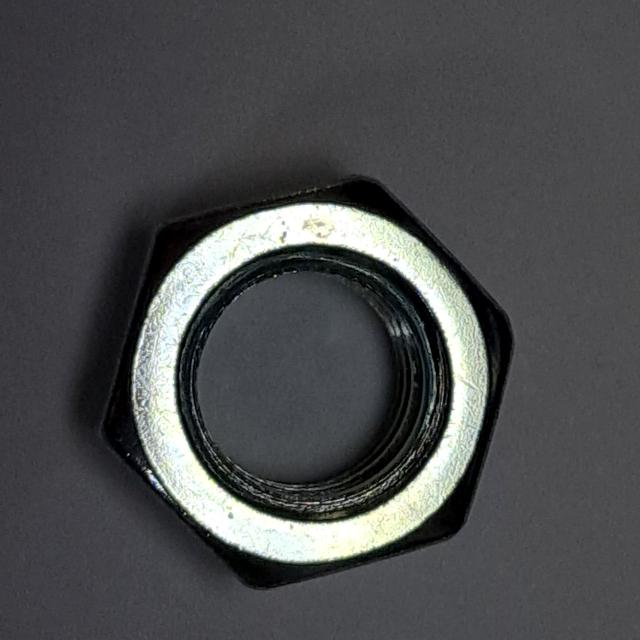Excellent: (83, 162, 527, 604)
